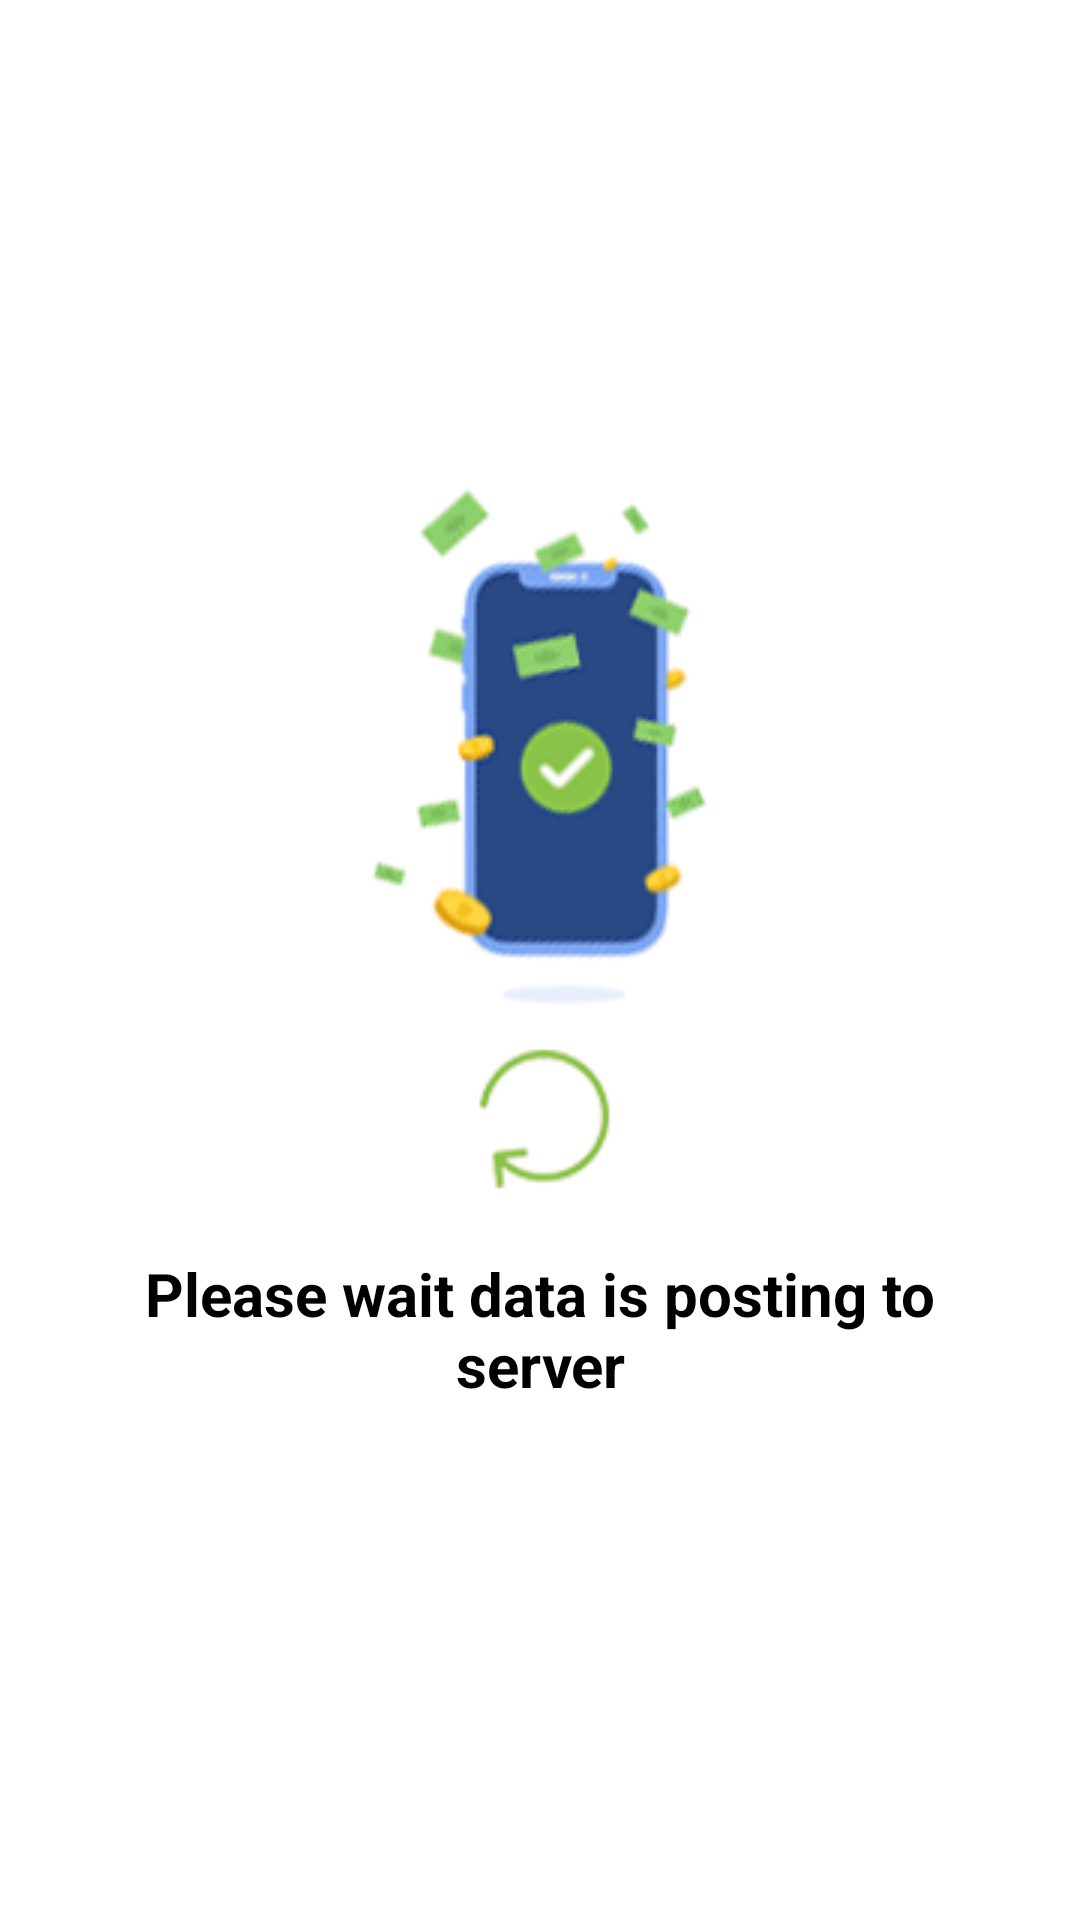

Where icons sit on this 1080*1920 app screen, as box=[x1, y1, x2, y2]:
rotate: box=[479, 1049, 610, 1189]
